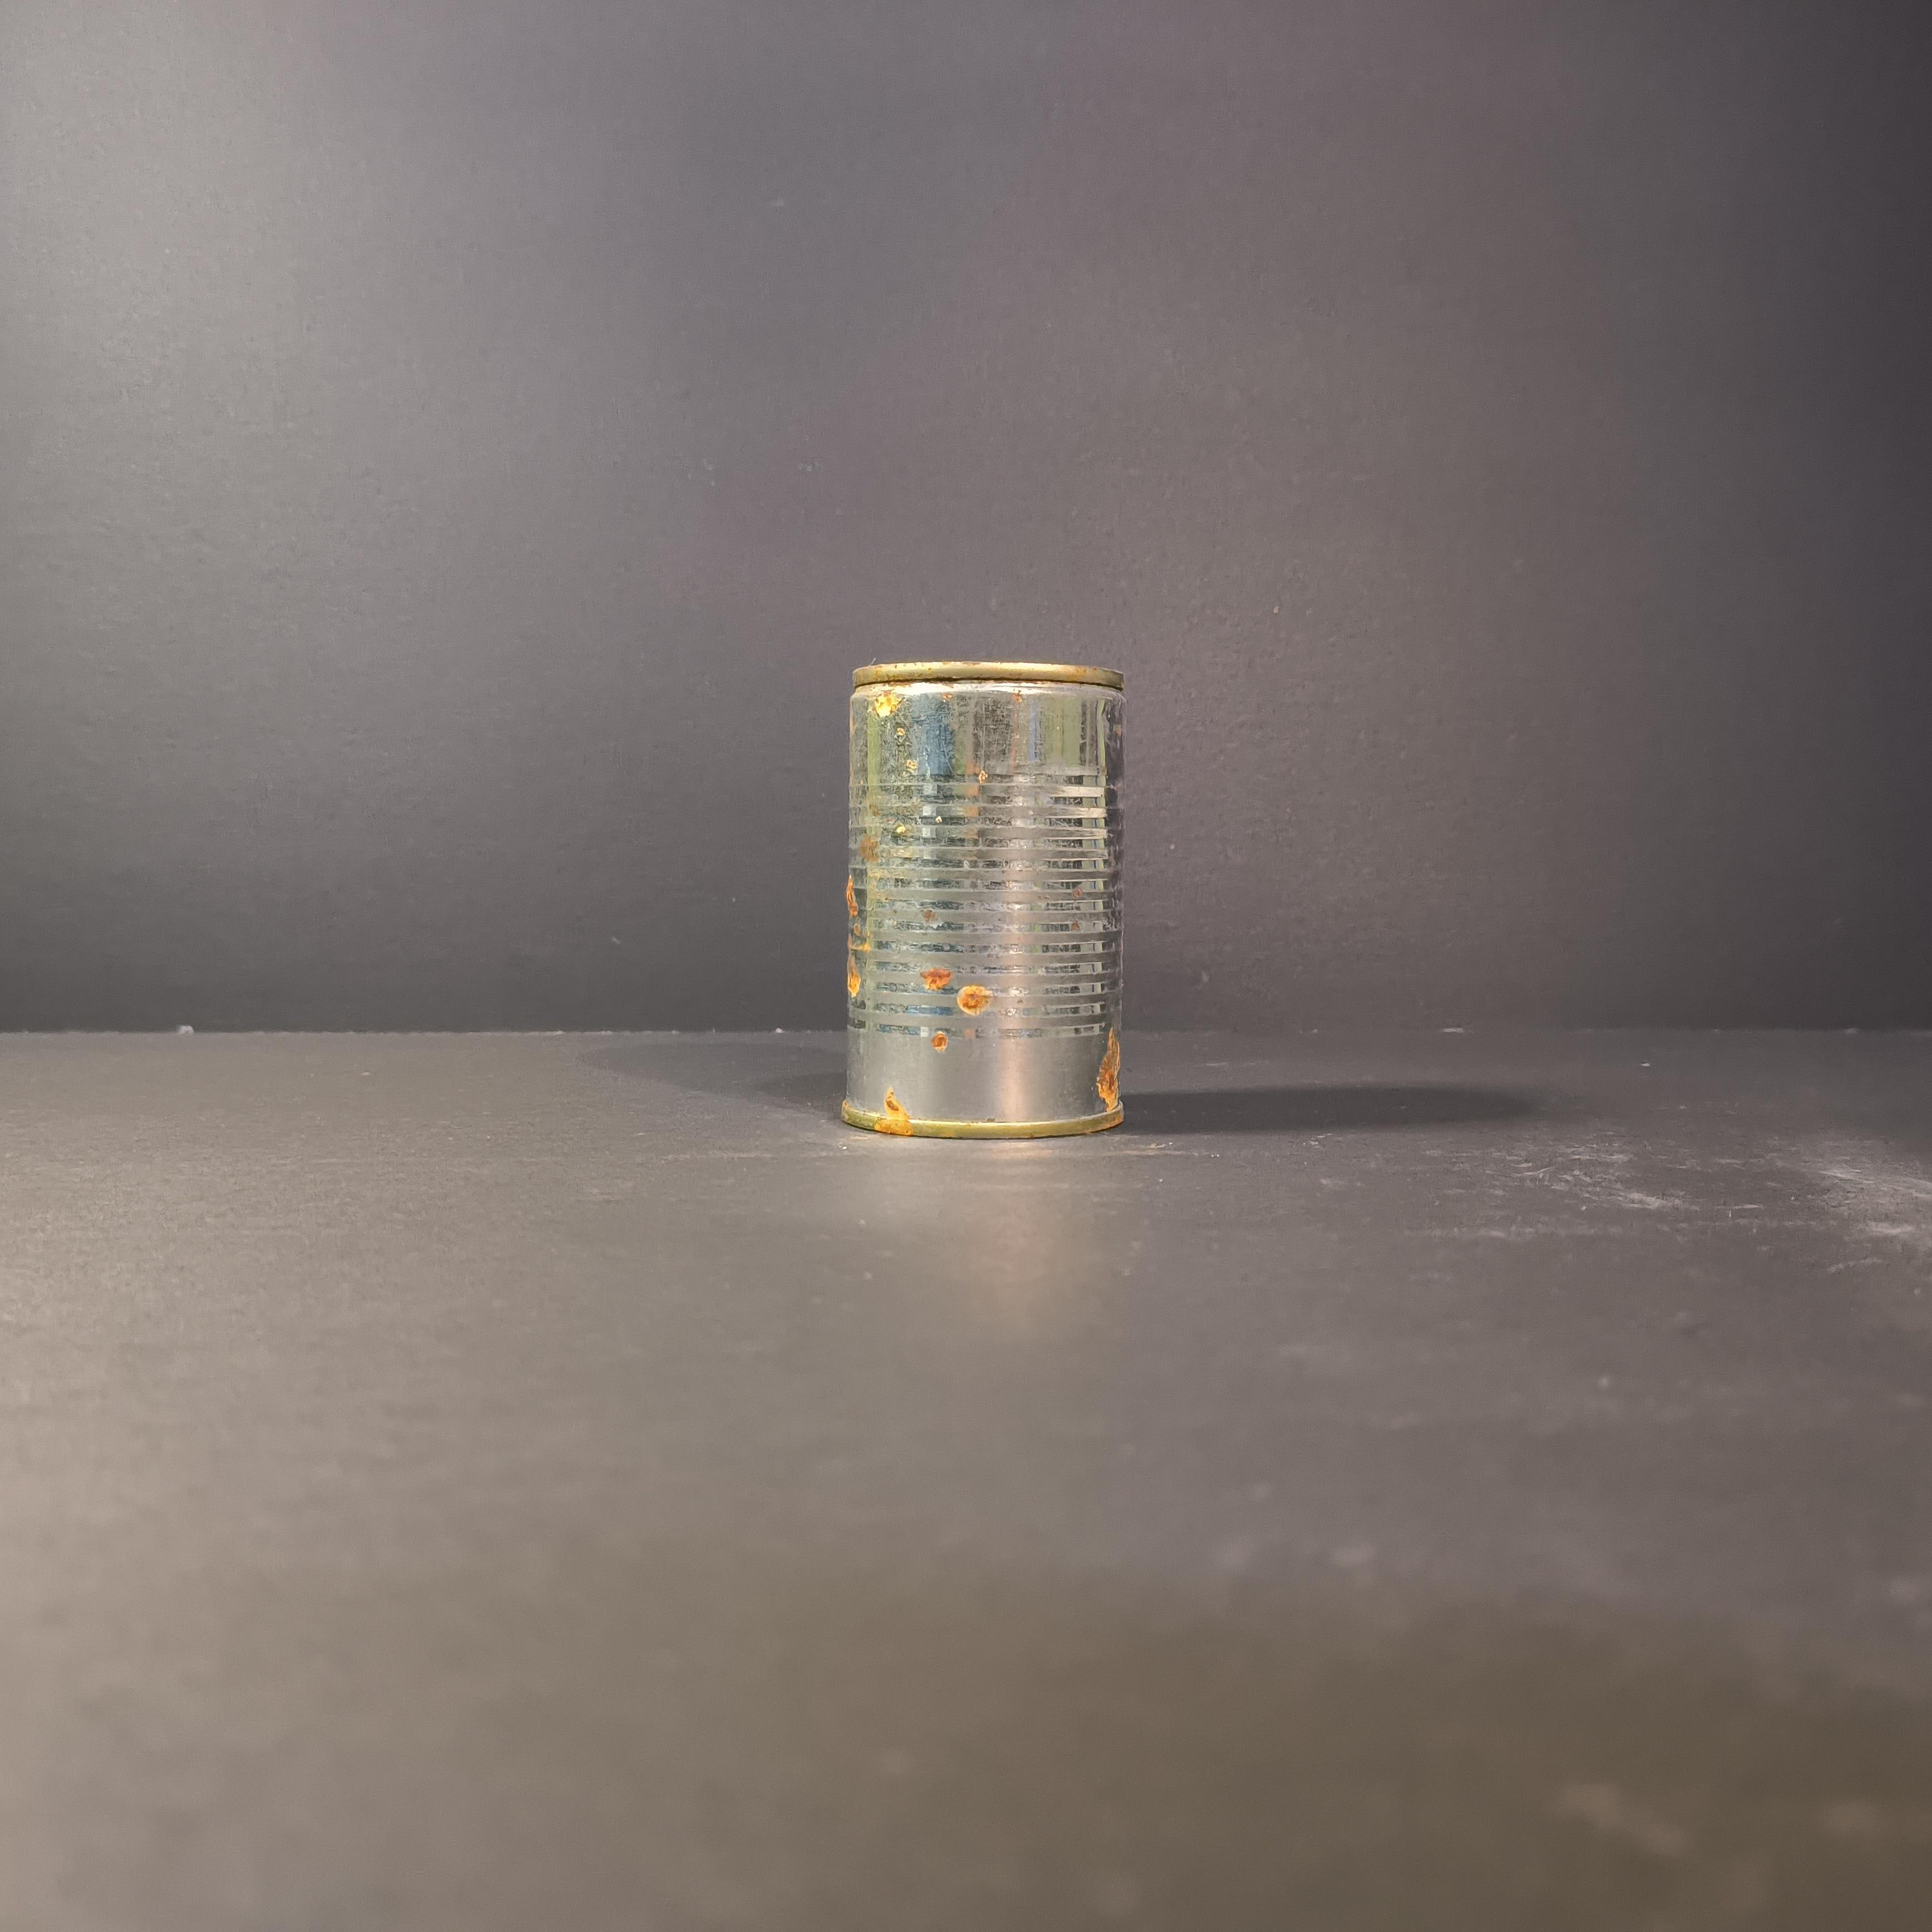Rusted: (821, 635, 1141, 1138)
